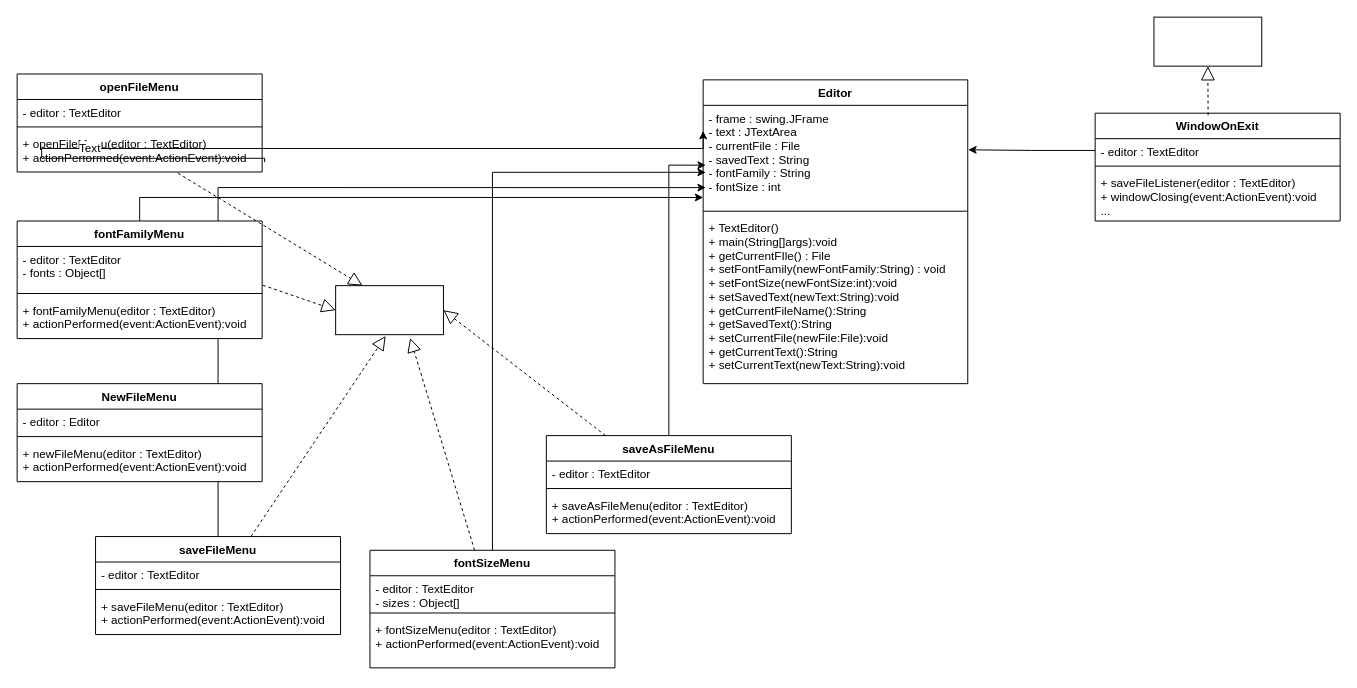
The diagram is 1357 pixels wide and 688 high, and some of its shapes have lost their labels. The shapes that lost their labels are listed below. From the top down, each one's centre as x and y in pixels, then its label:
At pixel 1207 41: "«interface» WindowListener".
At pixel 389 310: "«interface» ActionListener".
